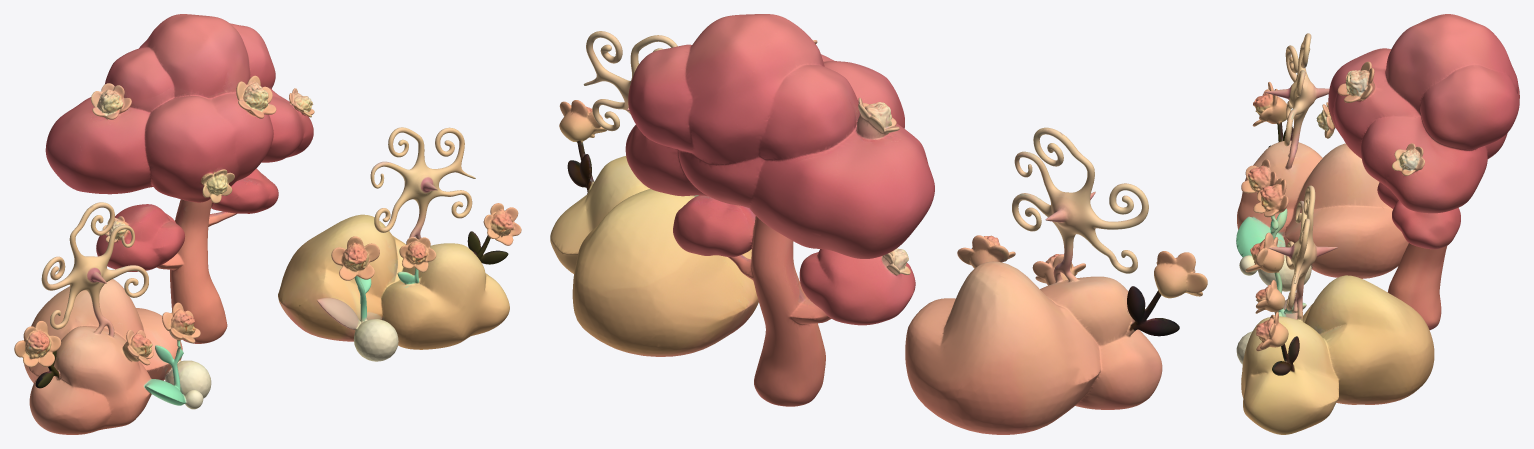
File: ARBOL CEREBRO 3 (1).fbx
3 views of the same model, side by side, from view 1: azimuth 30°, elevation 25°; view 2: azimuth 150°, elevation 25°; view 3: azimuth 270°, elevation 25° (orthographic). The views are drawn at different scales.
Visible parts, largest first — view 1: Mesh_0; view 2: Mesh_0; view 3: Mesh_0.
Part boxes in pixels (box(x1,y1,x2,y2)): Mesh_0: box(14, 14, 521, 434); Mesh_0: box(550, 14, 1207, 434); Mesh_0: box(1236, 14, 1519, 434).
Bounding box in the file's own units: 190 × 112 × 90.06.
1 material, 1 textured.
